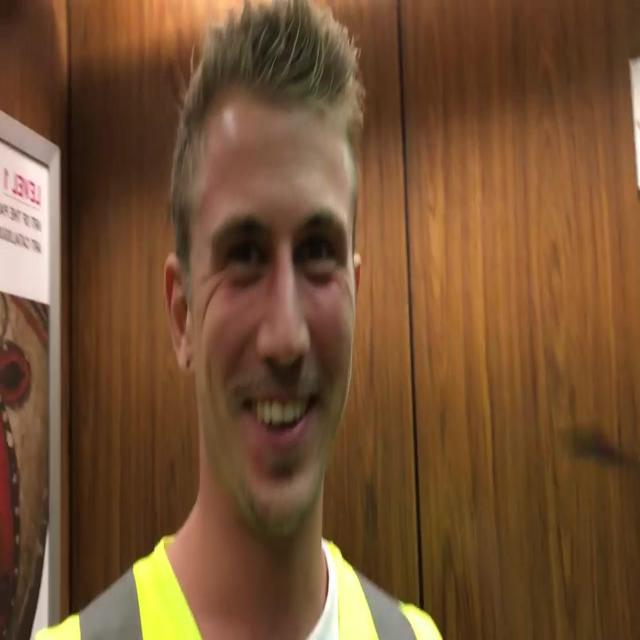Reflective-Jacket: (36, 529, 456, 640)
